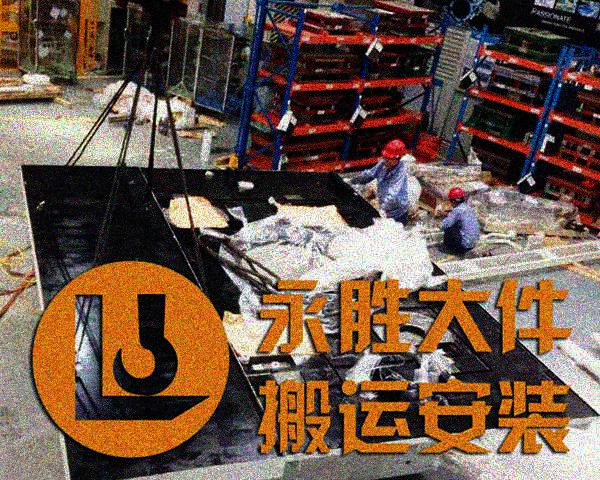helmet: (380, 137, 408, 169), (447, 185, 466, 208)
